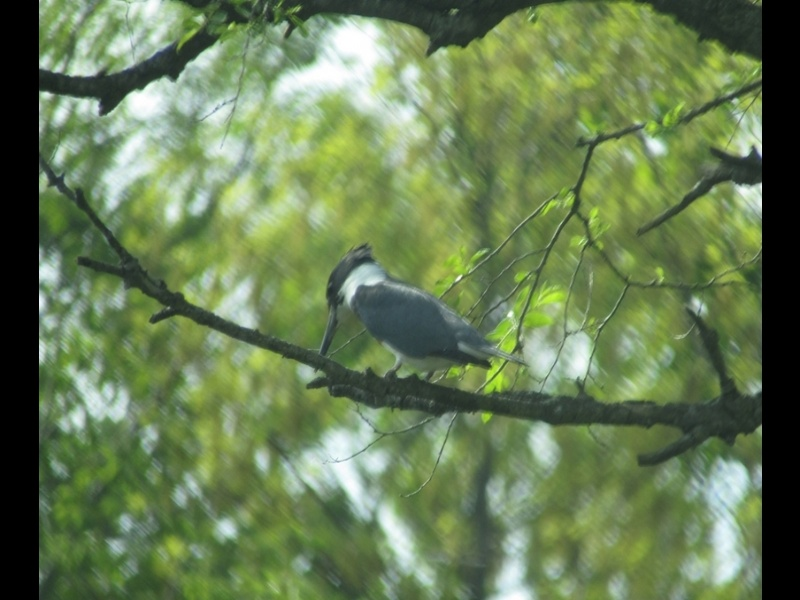kingfisher: (315, 242, 528, 403)
